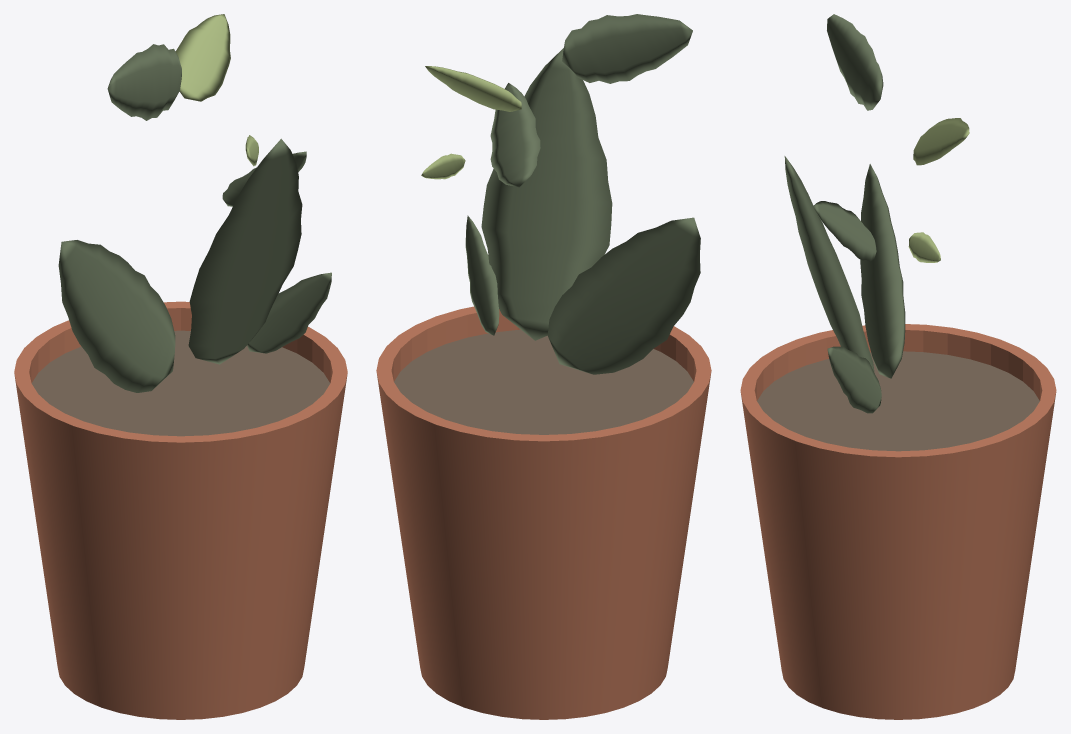
File: NPR_25_1043__MOD__GardenFurniture__PlantersAndPots__PottedPlantFlowerPot__Var-03__.glb
3 renders of one model, left to right at view 1: azimuth 30°, elevation 25°; view 2: azimuth 150°, elevation 25°; view 3: azimuth 270°, elevation 25°, orthographic. The views are drawn at different scales.
Visible parts, largest first — view 1: NPR_25_1043__MOD__GardenFurniture__PlantersAndPots__PottedPl; view 2: NPR_25_1043__MOD__GardenFurniture__PlantersAndPots__PottedPl; view 3: NPR_25_1043__MOD__GardenFurniture__PlantersAndPots__PottedPl.
Part boxes in pixels (x1=…): NPR_25_1043__MOD__GardenFurniture__PlantersAndPots__PottedPl: x1=14, y1=14, x2=347, y2=719; NPR_25_1043__MOD__GardenFurniture__PlantersAndPots__PottedPl: x1=376, y1=14, x2=711, y2=719; NPR_25_1043__MOD__GardenFurniture__PlantersAndPots__PottedPl: x1=740, y1=14, x2=1056, y2=719.
Bounding box in the file's own units: 0.4 × 0.8593 × 0.4.
